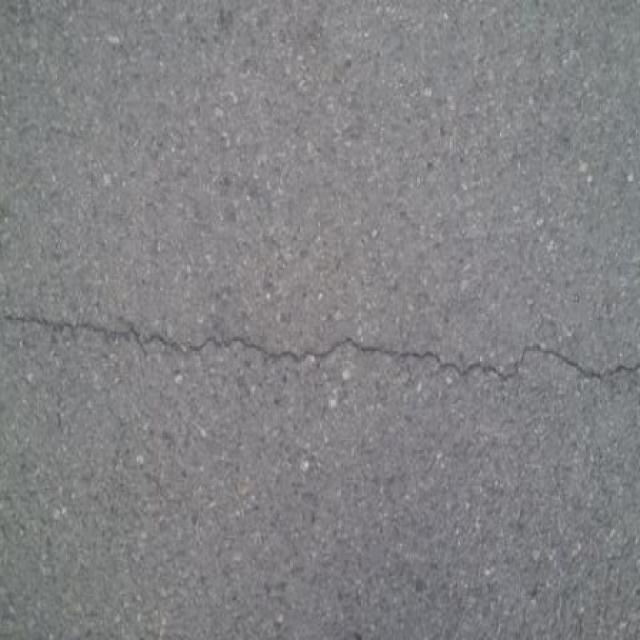Alligator Crack: (0, 312, 640, 385)
